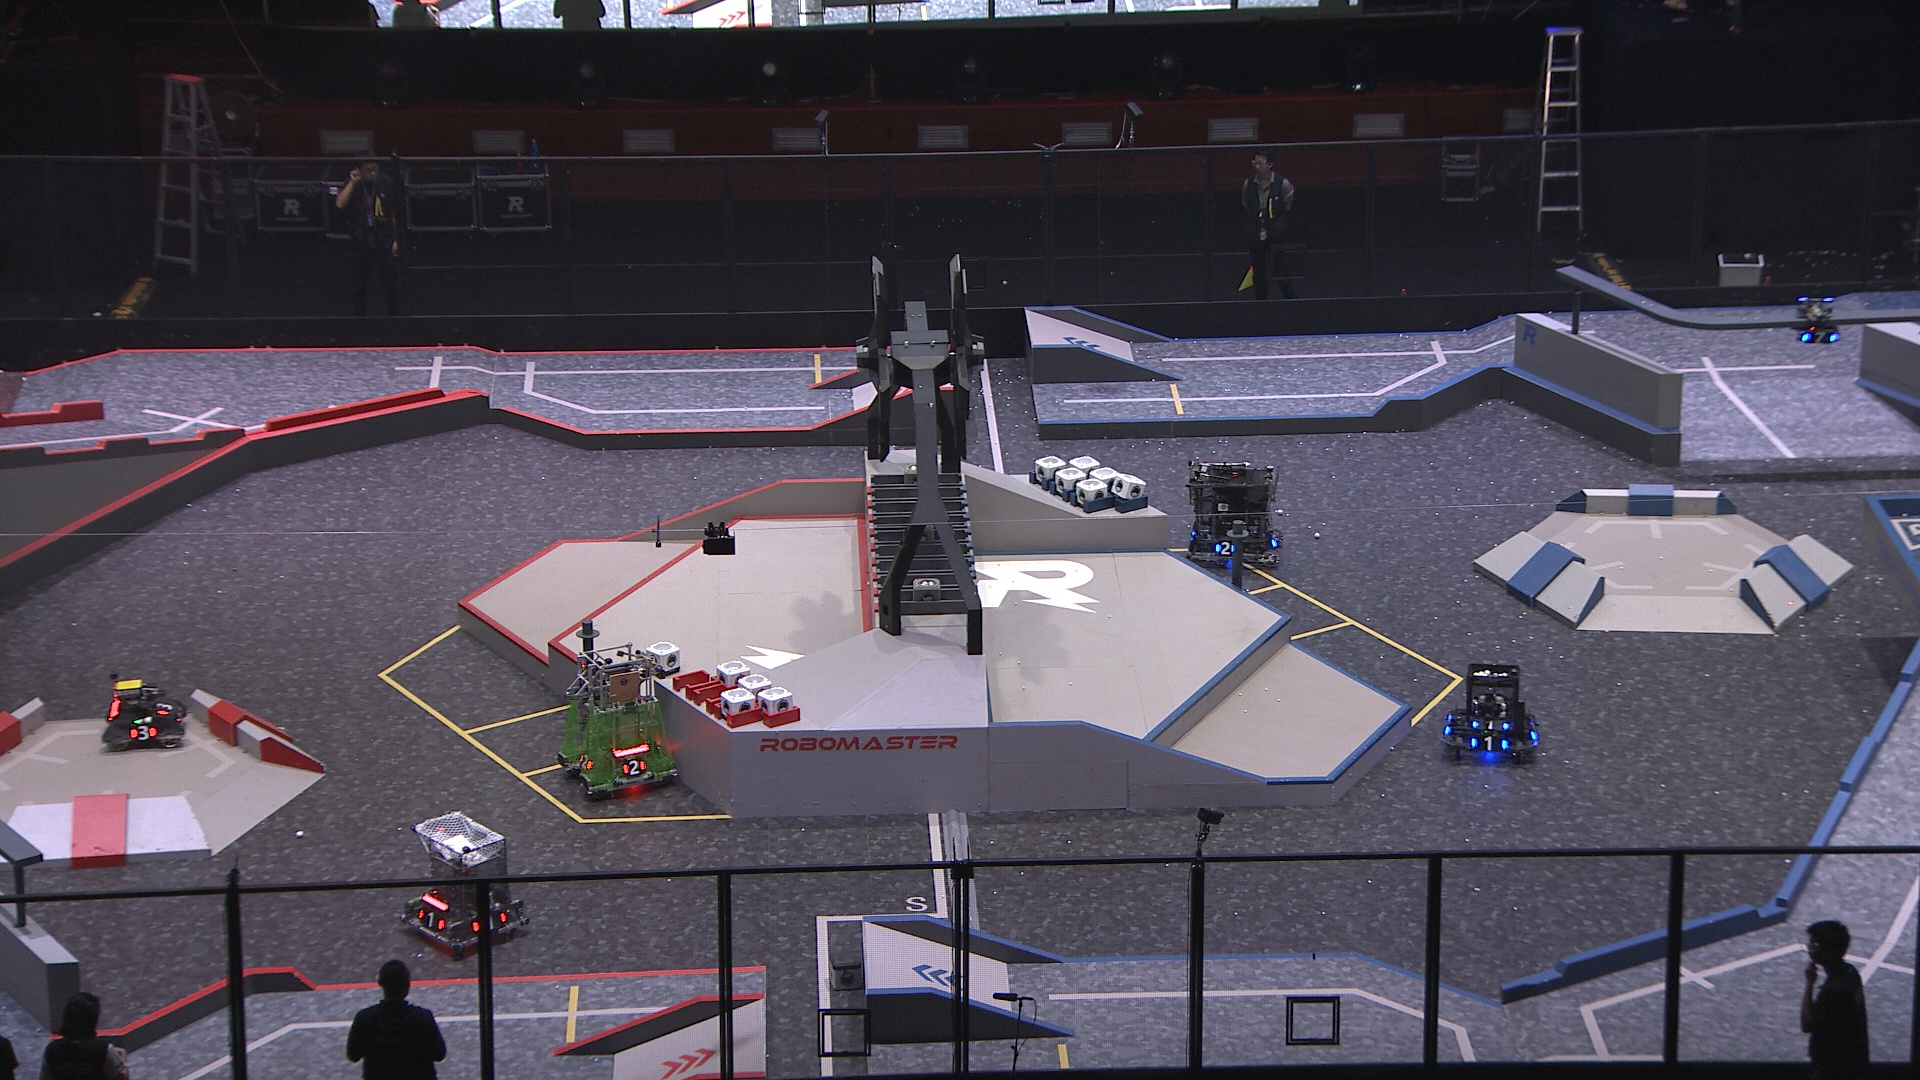armor: (1466, 735, 1510, 754), (472, 913, 510, 932), (417, 909, 448, 932), (1801, 328, 1840, 345), (1472, 717, 1510, 733), (131, 723, 158, 741), (621, 760, 647, 778), (154, 698, 174, 717), (1215, 541, 1237, 556), (579, 752, 595, 773)
car: (398, 808, 531, 959), (555, 645, 684, 799), (1439, 662, 1545, 766), (1185, 462, 1282, 568), (102, 675, 187, 750)
watcher: (1793, 295, 1842, 347)
